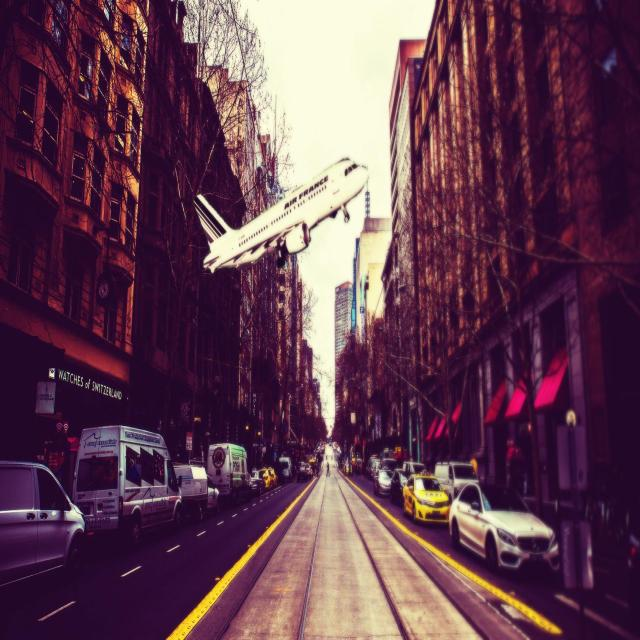airplane: (192, 155, 369, 275)
